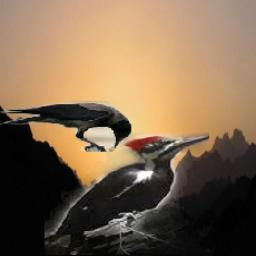Crow: (0, 102, 132, 153)
Woodpecker: (45, 133, 209, 255)
